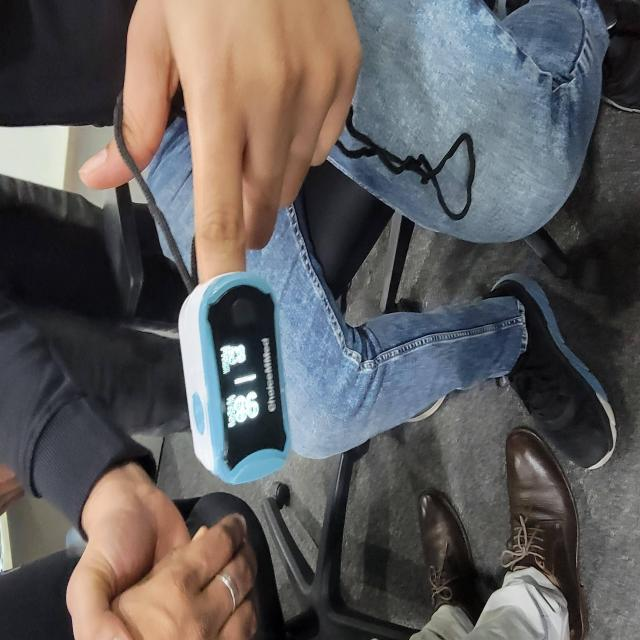spo2: (178, 273, 288, 483)
